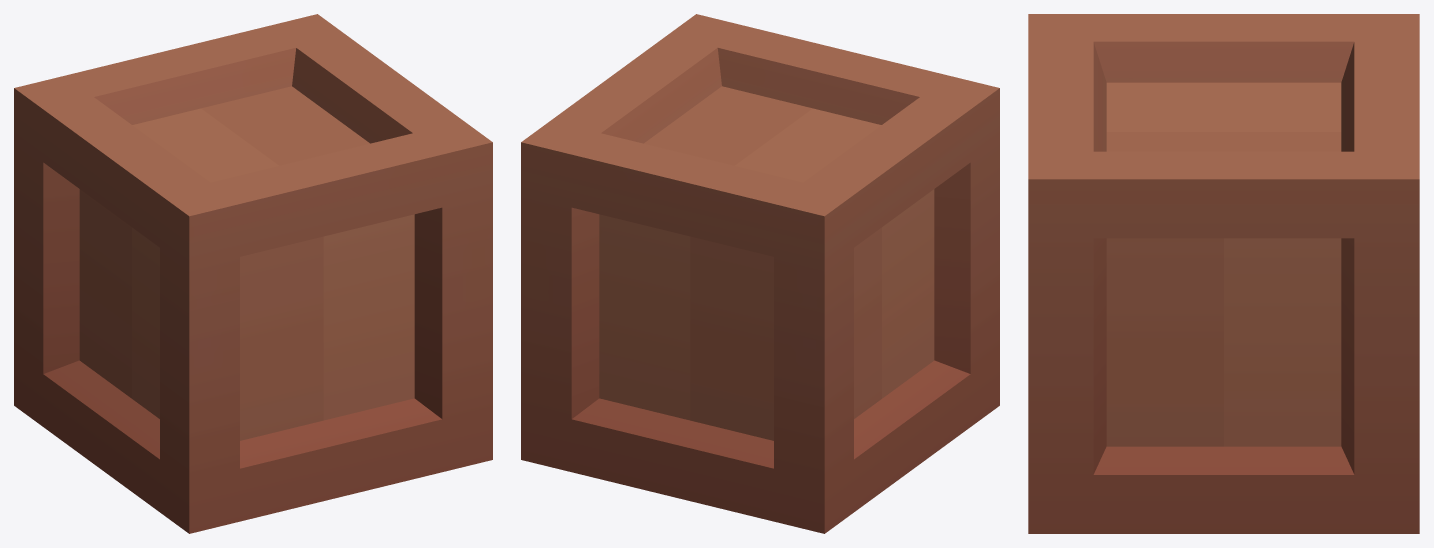
File: crate.glb
3 views of the same model, side by side, from view 1: azimuth 30°, elevation 25°; view 2: azimuth 150°, elevation 25°; view 3: azimuth 270°, elevation 25° (orthographic). The views are drawn at different scales.
Visible parts, largest first — view 1: crate_A_big; view 2: crate_A_big; view 3: crate_A_big.
Boxes of the visible parts, bbox=[...] form: crate_A_big: bbox=[14, 14, 492, 533]; crate_A_big: bbox=[521, 14, 999, 533]; crate_A_big: bbox=[1028, 14, 1419, 533].
Size of the model in its own units: 0.21 by 0.21 by 0.21.
Materials: 1 (1 with a texture image).
